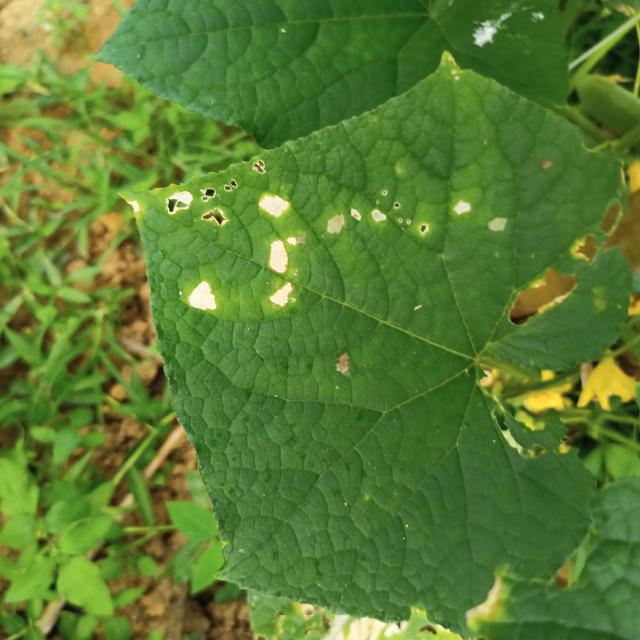disease_cucumber: (128, 154, 313, 335), (320, 143, 518, 263)
